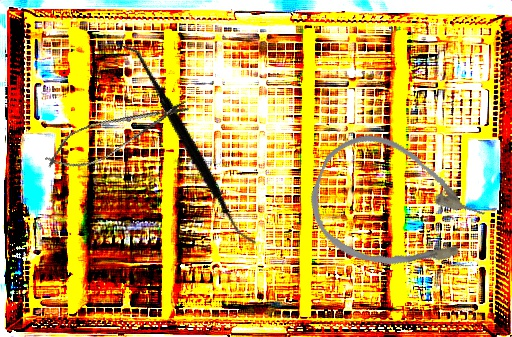Cannula: (295, 120, 497, 297)
Micro Scissor: (39, 86, 195, 181)
Spatula Surgical: (63, 40, 310, 248)
